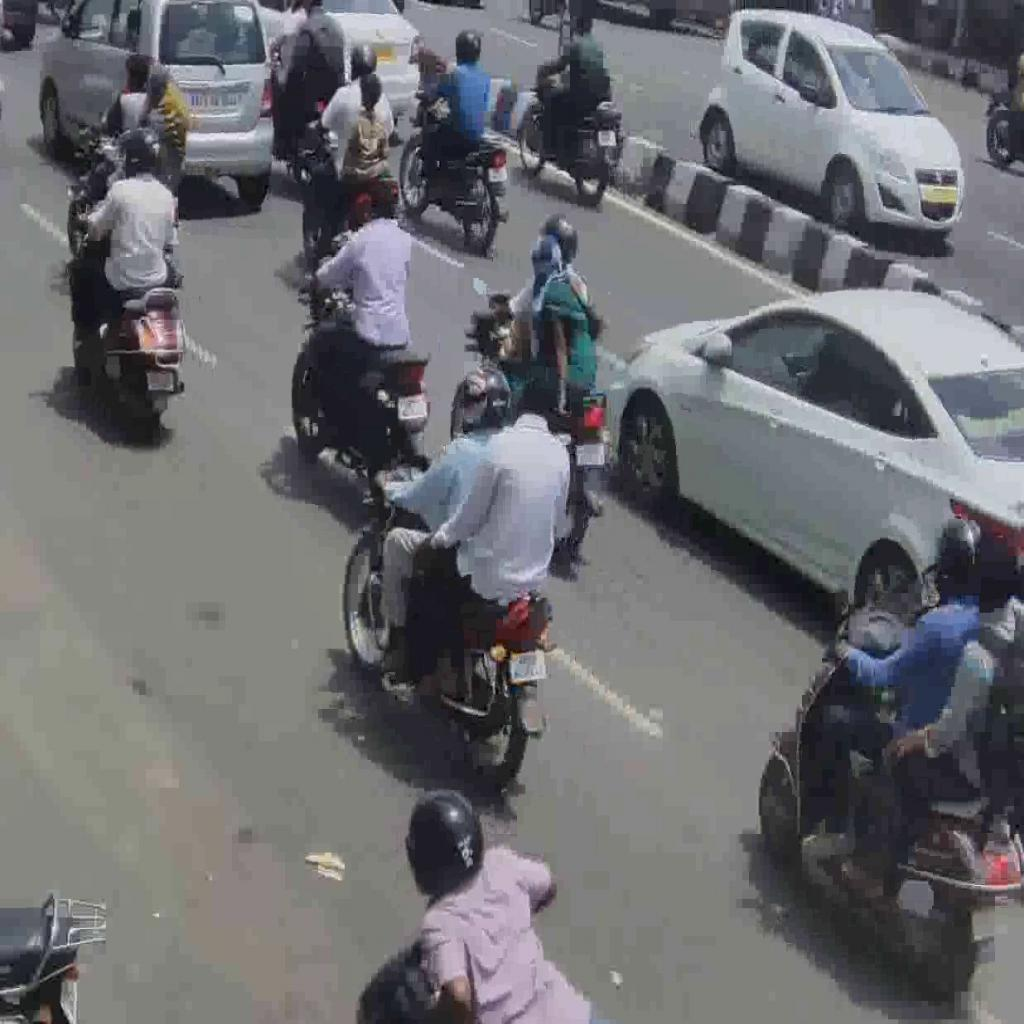bike: (756, 597, 1024, 1002), (340, 449, 558, 792), (450, 292, 612, 560), (291, 244, 433, 494), (72, 196, 190, 446), (398, 92, 510, 254), (519, 54, 623, 208)
helmet: (460, 364, 511, 434), (539, 210, 579, 264), (118, 126, 161, 176), (368, 176, 400, 220), (454, 27, 482, 66)
lisc: (970, 903, 1008, 941), (510, 649, 546, 683), (398, 394, 427, 420), (576, 443, 604, 466), (146, 370, 174, 392), (488, 167, 508, 182), (598, 130, 616, 146)
no_helmet: (518, 367, 557, 420), (528, 234, 564, 281)
rider: (836, 527, 1024, 908), (379, 367, 571, 704), (799, 512, 983, 863), (372, 364, 511, 678), (300, 176, 413, 446), (68, 126, 181, 371), (474, 209, 590, 370), (414, 26, 492, 202), (517, 233, 598, 391)
